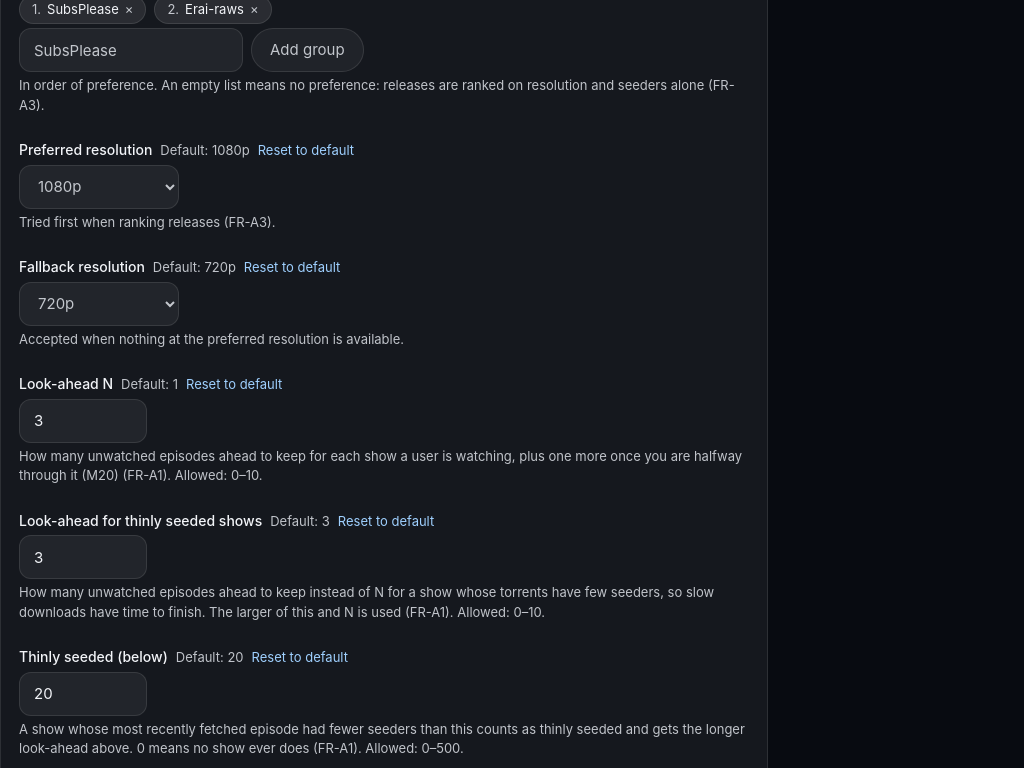
Test case: Admin — Rules (FR-D2, FR-T5) › puts a field back to its default
(page scrolled)
Expected: the number field labelled "Look-ahead N" is shown, [19,398,147,442]
Click the button "Reset to default" in the row of "Look-ahead N": point(234, 385) [186,375,282,394]
(page scrolled)
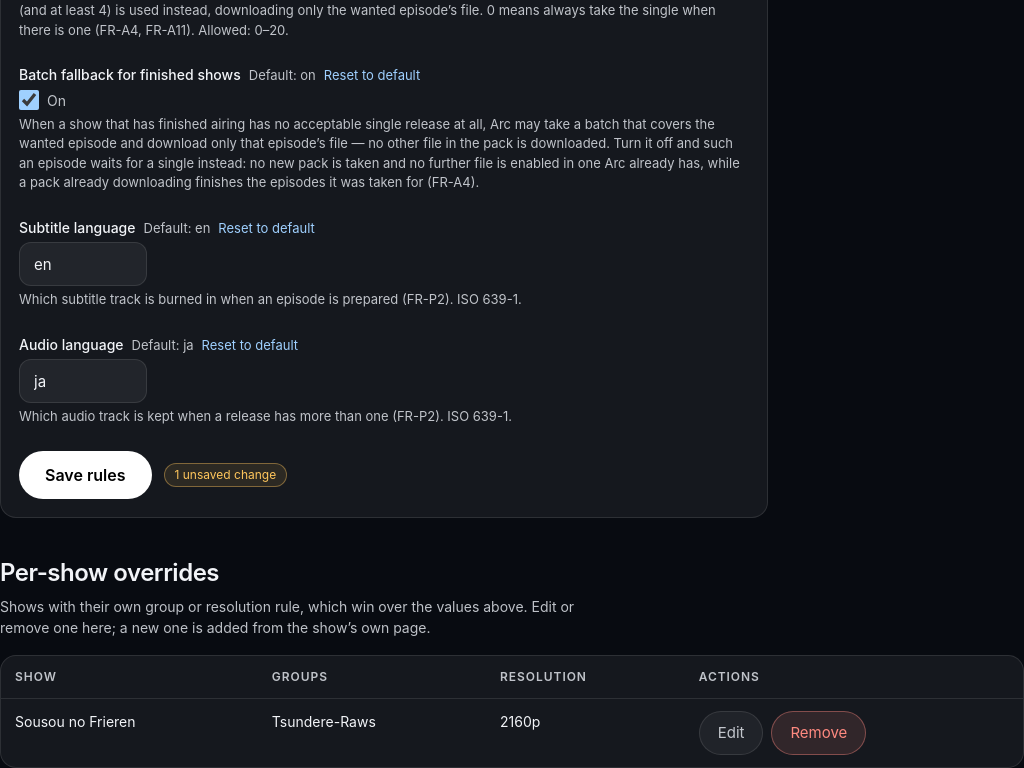
Now the text "1 unsaved change" is shown, box [164,462,287,486]
